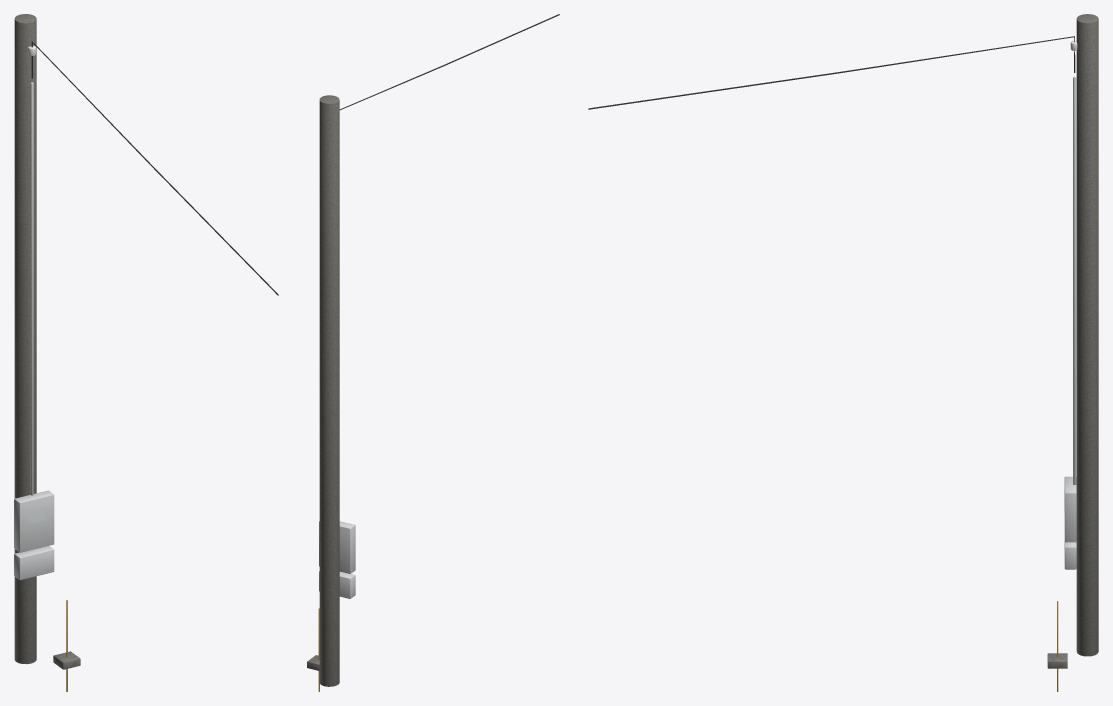
The model's file is SER-LIG-001_lod1.glb.
3 renders of one model, left to right at view 1: azimuth 30°, elevation 25°; view 2: azimuth 150°, elevation 25°; view 3: azimuth 270°, elevation 25°, orthographic. The views are drawn at different scales.
Visible parts, largest first — view 1: SER-LIG-001_poste, SER-LIG-001_caixa, SER-LIG-001_eletroduto, SER-LIG-001_disjuntor, SER-LIG-001_ramal; view 2: SER-LIG-001_poste, SER-LIG-001_caixa, SER-LIG-001_disjuntor, SER-LIG-001_ramal; view 3: SER-LIG-001_poste, SER-LIG-001_eletroduto, SER-LIG-001_ramal, SER-LIG-001_caixa.
Part boxes in pixels (x1=…): SER-LIG-001_poste: x1=14, y1=14, x2=36, y2=664; SER-LIG-001_caixa: x1=14, y1=490, x2=54, y2=552; SER-LIG-001_eletroduto: x1=30, y1=82, x2=33, y2=495; SER-LIG-001_disjuntor: x1=14, y1=546, x2=54, y2=580; SER-LIG-001_ramal: x1=31, y1=41, x2=278, y2=295; SER-LIG-001_poste: x1=319, y1=95, x2=339, y2=686; SER-LIG-001_caixa: x1=319, y1=521, x2=355, y2=573; SER-LIG-001_disjuntor: x1=319, y1=571, x2=355, y2=598; SER-LIG-001_ramal: x1=339, y1=14, x2=559, y2=110; SER-LIG-001_poste: x1=1076, y1=14, x2=1098, y2=656; SER-LIG-001_eletroduto: x1=1073, y1=76, x2=1076, y2=484; SER-LIG-001_ramal: x1=588, y1=36, x2=1075, y2=109; SER-LIG-001_caixa: x1=1064, y1=476, x2=1076, y2=542.
Bounding box in the file's own units: 0.6 × 7.3 × 5.11.
7 materials, 2 textured.
